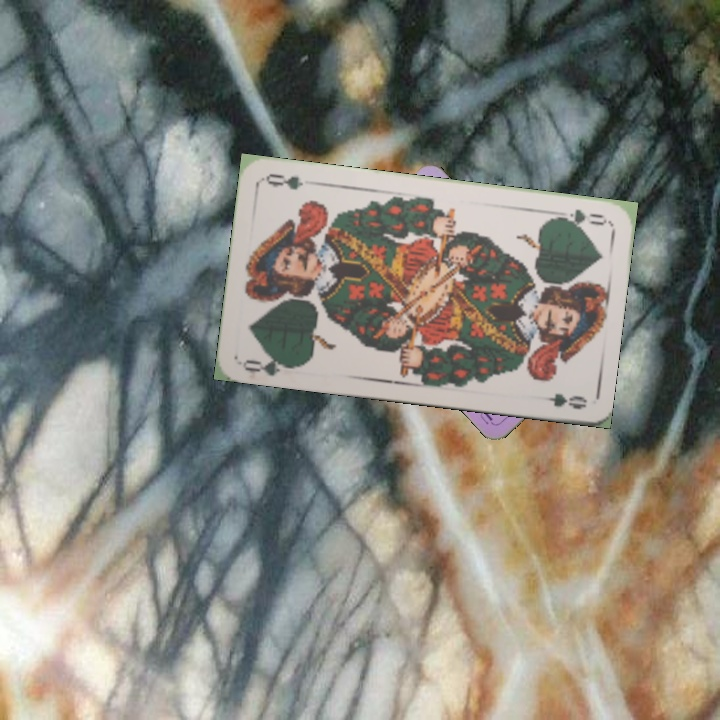GO: (240, 350, 299, 379), (550, 205, 610, 229)
